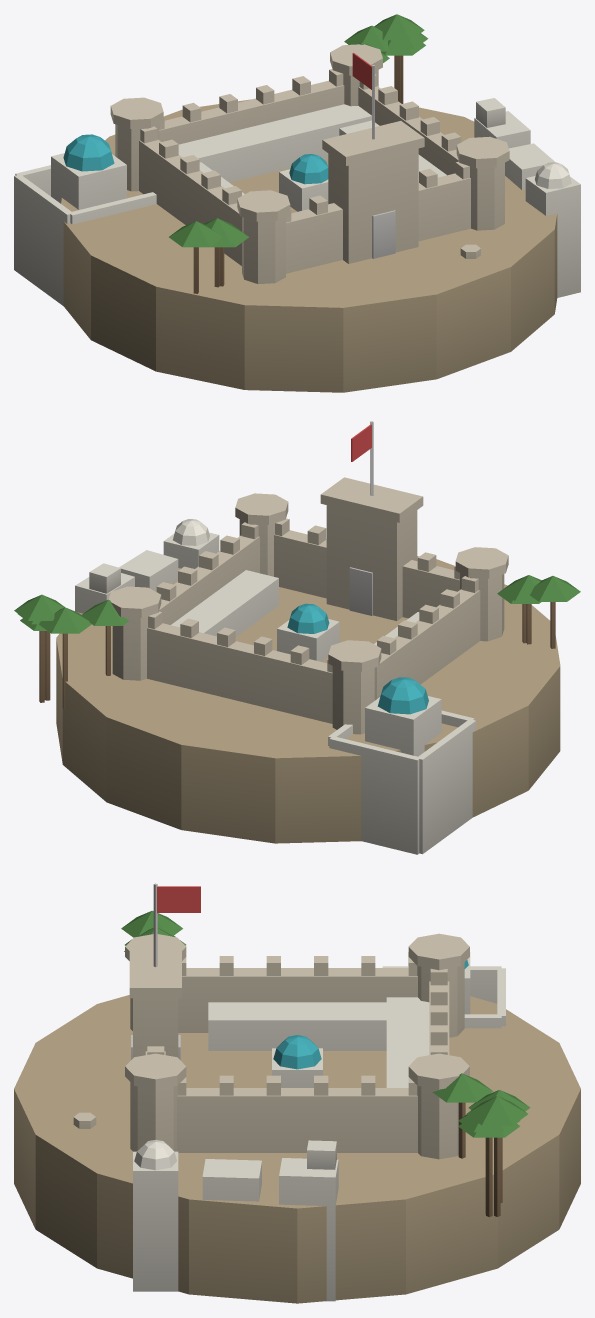
Rendered from abbey_isl_b.glb.
The picture shows the model from 3 angles, top to bottom: view 1: azimuth 30°, elevation 25°; view 2: azimuth 150°, elevation 25°; view 3: azimuth 270°, elevation 25°; orthographic projection. The views are drawn at different scales.
Visible parts, largest first — view 1: abbey_isl_b; view 2: abbey_isl_b; view 3: abbey_isl_b.
Part boxes in pixels (x1,y1,x2,y2): abbey_isl_b: (14,14,580,392); abbey_isl_b: (14,421,580,854); abbey_isl_b: (14,883,580,1303).
Bounding box in the file's own units: 2 × 1.17 × 2.
